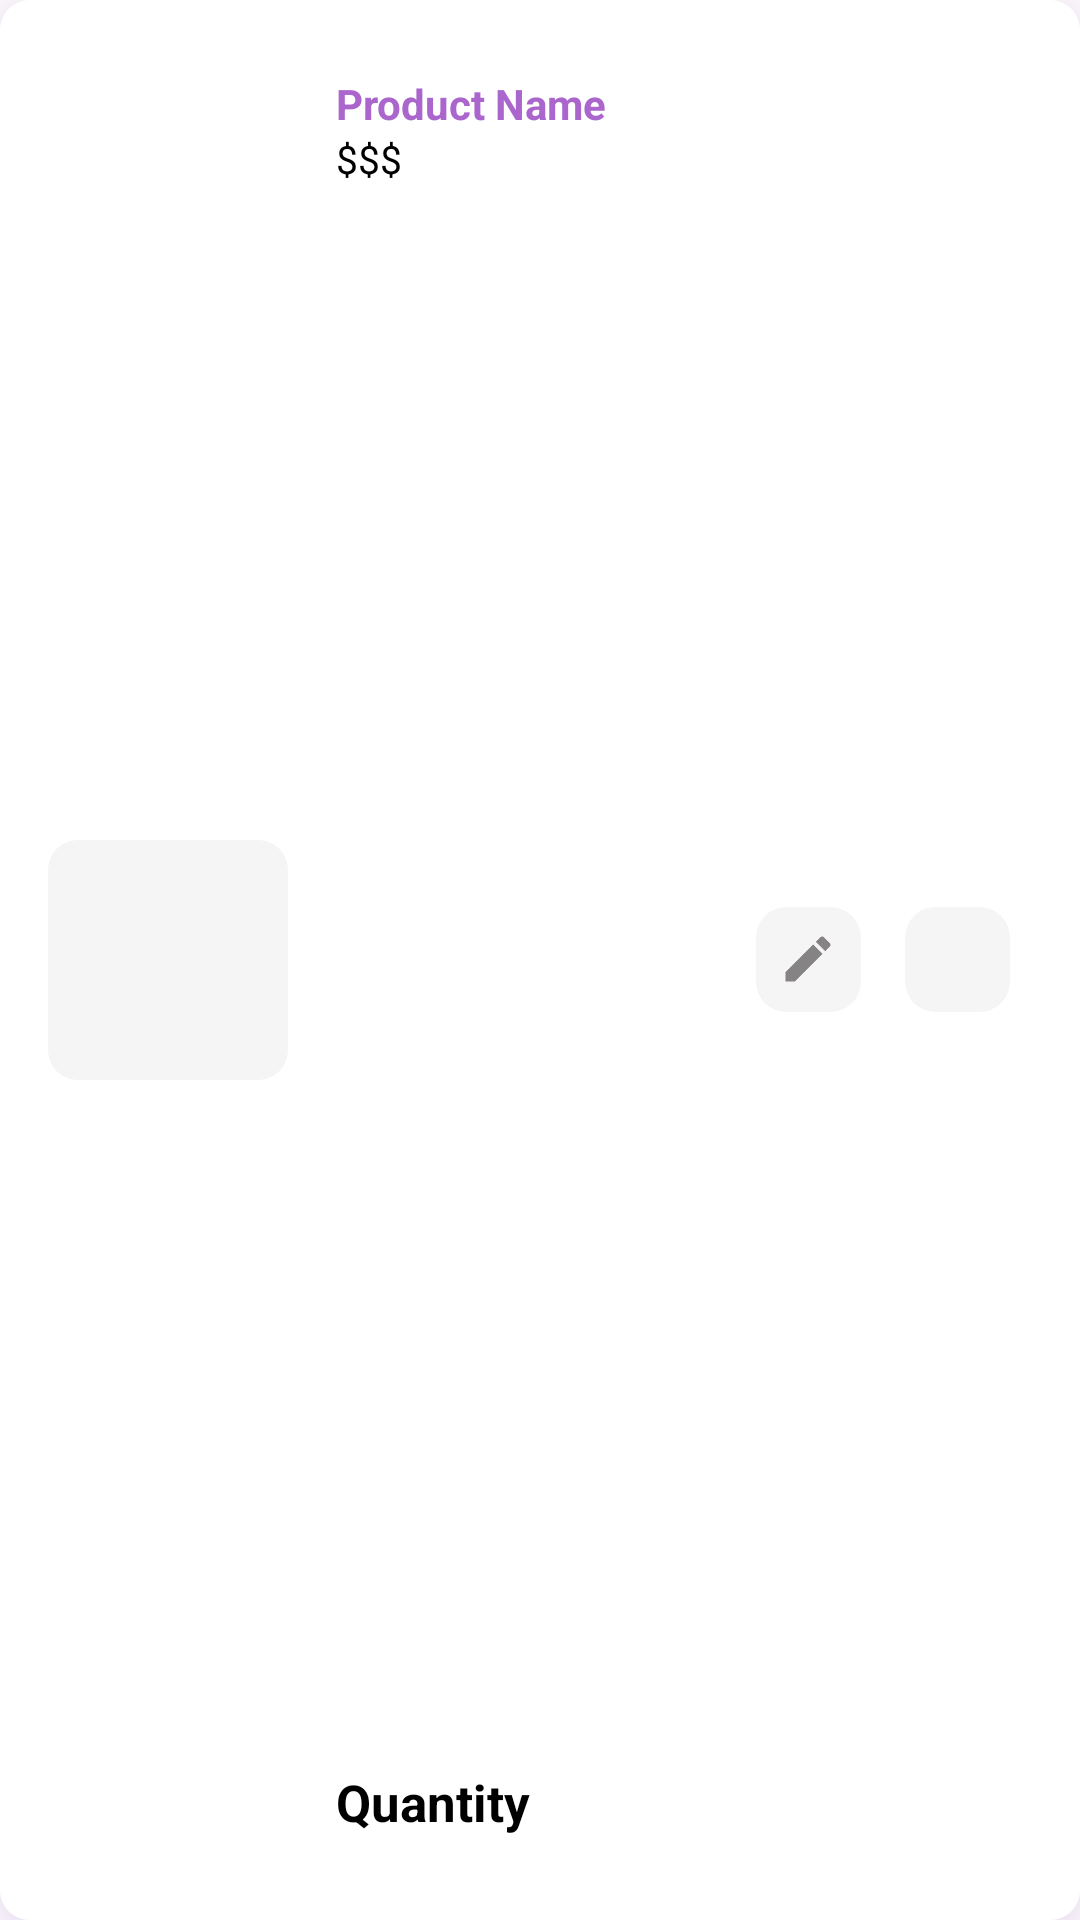

Point at icon controls on the screen. Image size 1080px x 1920px, points as point (x, y).
cart edit: point (808, 959)
